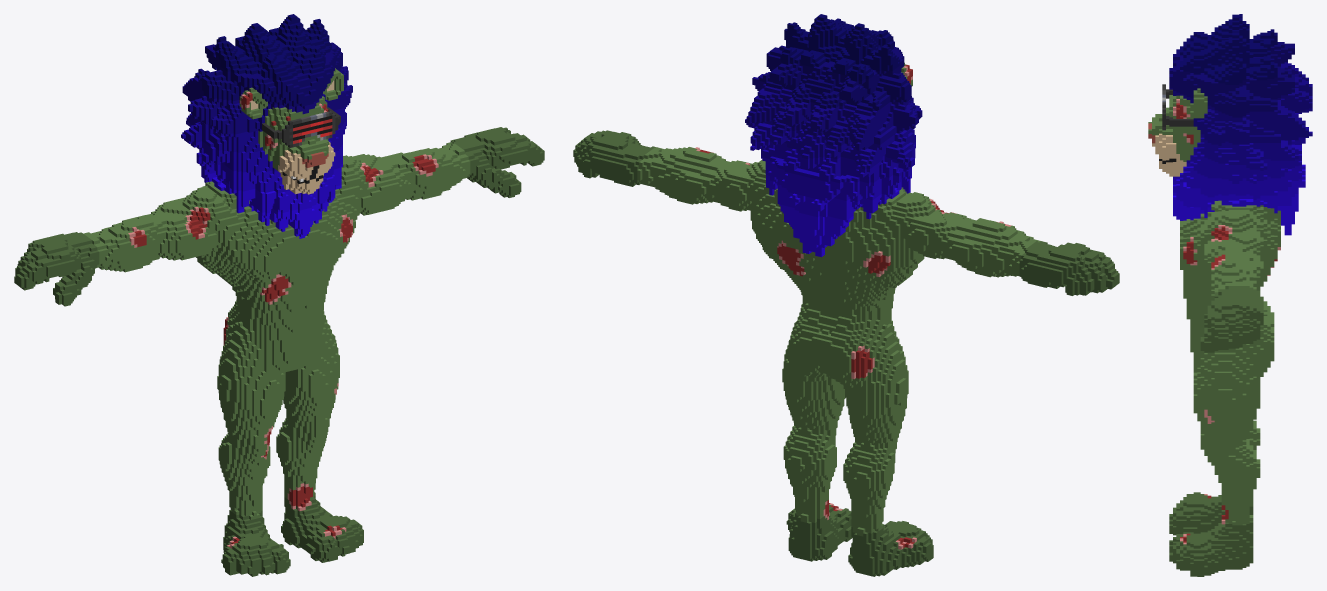
File: 22-duMpmAuc.glb
3 views of the same model, side by side, from view 1: azimuth 30°, elevation 25°; view 2: azimuth 150°, elevation 25°; view 3: azimuth 270°, elevation 25° (orthographic). The views are drawn at different scales.
Parts seen in each view (by area): view 1: smirk; view 2: smirk; view 3: smirk.
Part boxes in pixels (<box>): smirk: <box>14,14,544,576</box>; smirk: <box>573,14,1119,576</box>; smirk: <box>1148,14,1312,576</box>.
Size of the model in its own units: 17.2 by 16.5 by 4.7.
4 materials, 4 textured.
